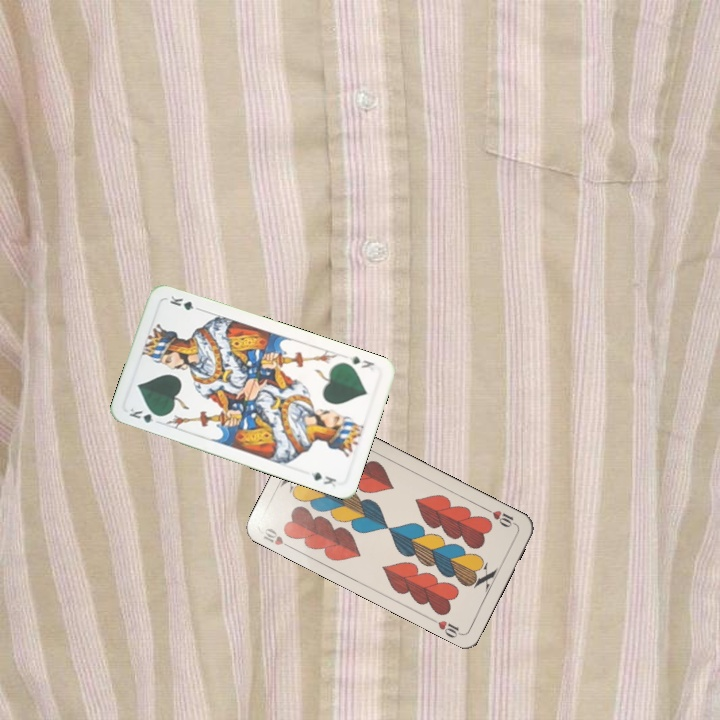GK: (125, 404, 165, 425), (344, 352, 377, 373)
H10: (259, 524, 295, 552), (482, 504, 520, 530)
